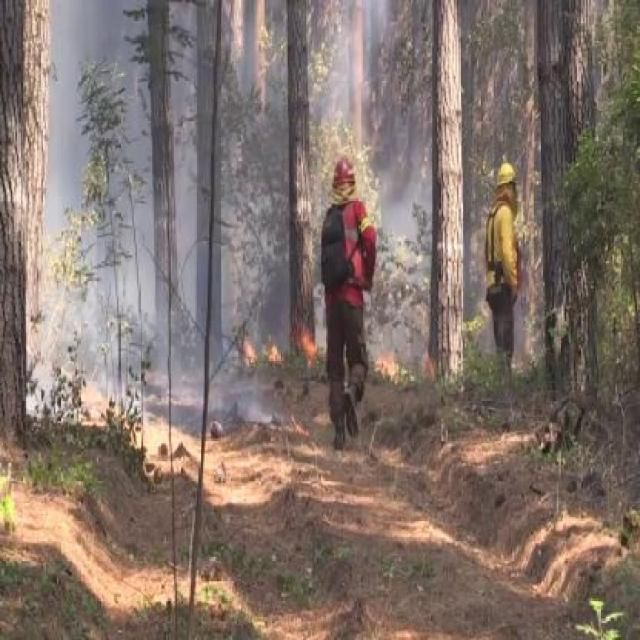Fire: (376, 352, 402, 383), (244, 337, 258, 365), (300, 336, 316, 358), (264, 346, 281, 362)
